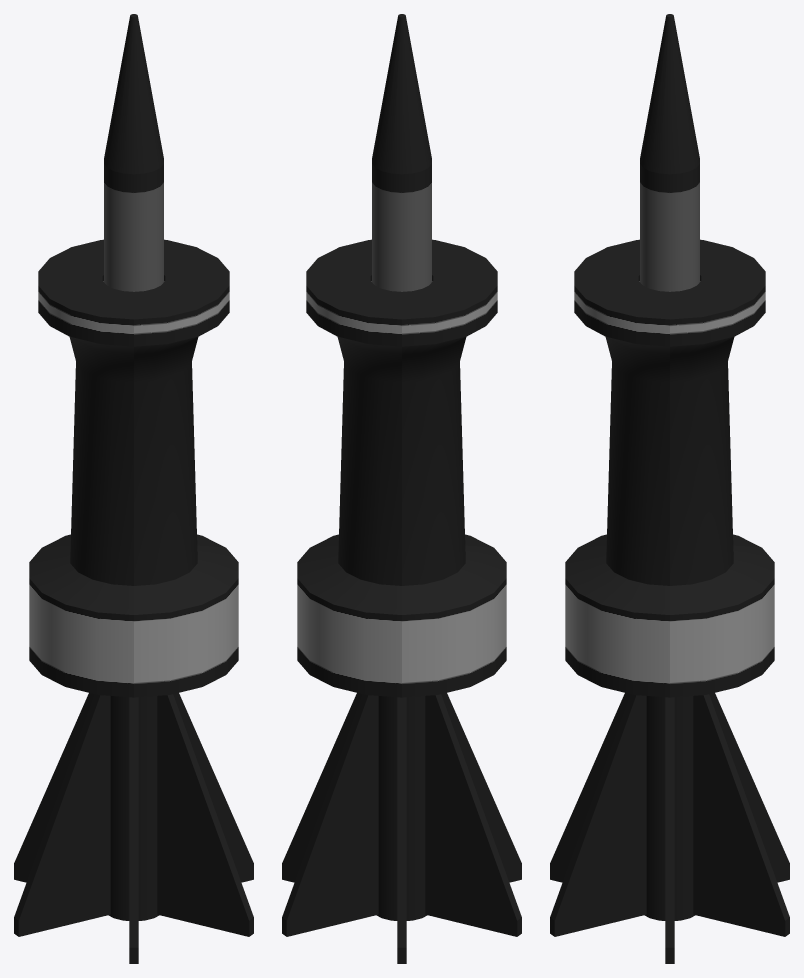
The model's file is TANKSHELL_APFSDS.FBX.
3 views of the same model, side by side, from view 1: azimuth 30°, elevation 25°; view 2: azimuth 150°, elevation 25°; view 3: azimuth 270°, elevation 25° (orthographic).
Parts seen in each view (by area): view 1: 철갑탄, Object001, Object003, Object002; view 2: 철갑탄, Object002, Object003, Object001; view 3: 철갑탄, Object001, Object002, Object003.
Boxes of the visible parts, box(x1,y1,x2,y2) form: 철갑탄: box(14, 14, 253, 963); Object001: box(134, 258, 238, 697); Object003: box(29, 258, 133, 697); Object002: box(42, 239, 225, 547); 철갑탄: box(282, 14, 521, 963); Object002: box(297, 258, 401, 697); Object003: box(402, 258, 506, 697); Object001: box(310, 239, 493, 547); 철갑탄: box(550, 14, 789, 963); Object001: box(565, 258, 669, 697); Object002: box(670, 258, 774, 697); Object003: box(578, 239, 761, 547).
Bounding box in the file's own units: 64.87 × 235 × 57.32.
Materials: 1 (1 with a texture image).
